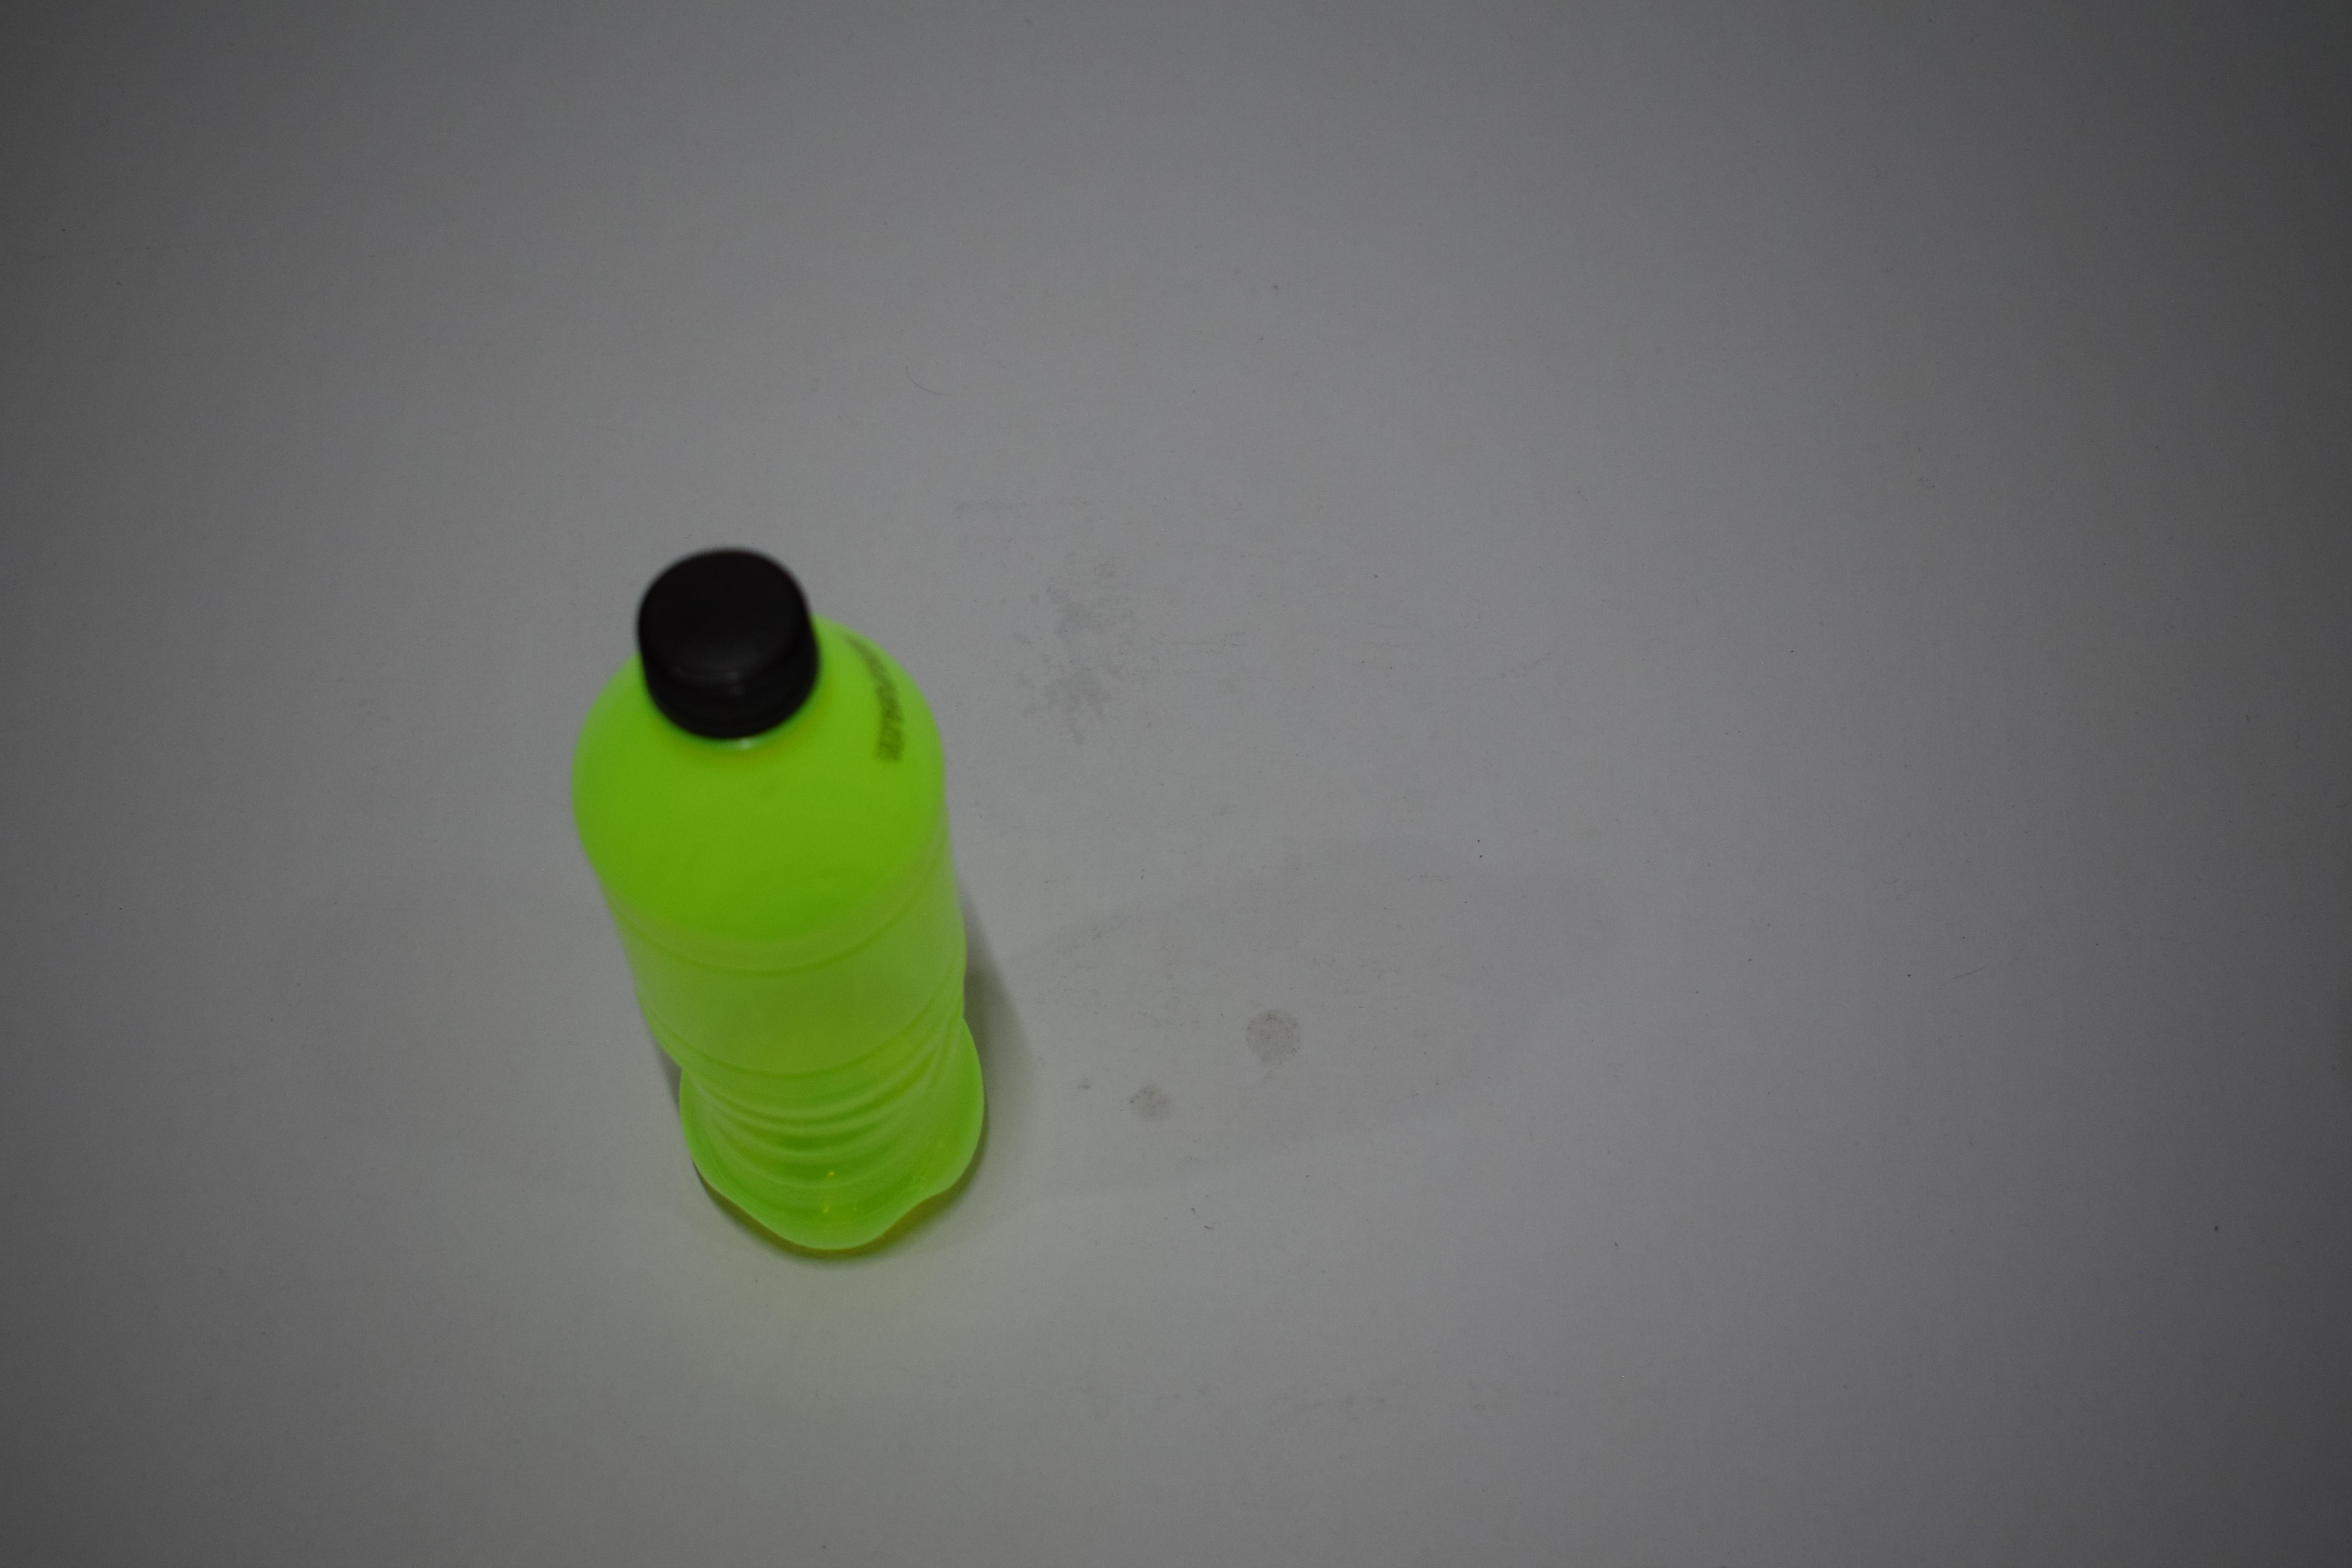bottle: (565, 0, 996, 471)
